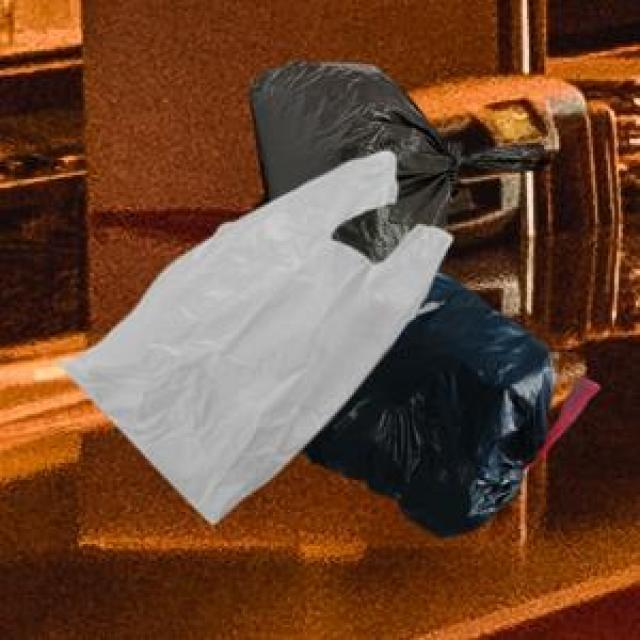miscellaneous trash: (294, 265, 595, 533), (245, 58, 548, 260)
